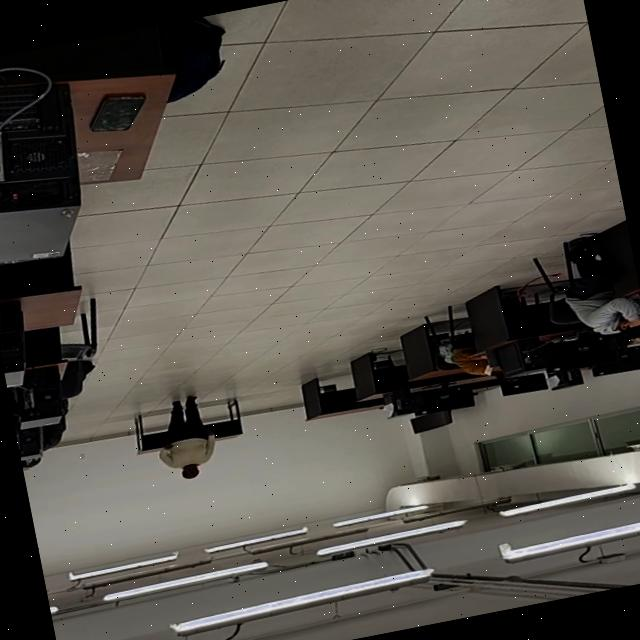Persona: (146, 388, 225, 486)
